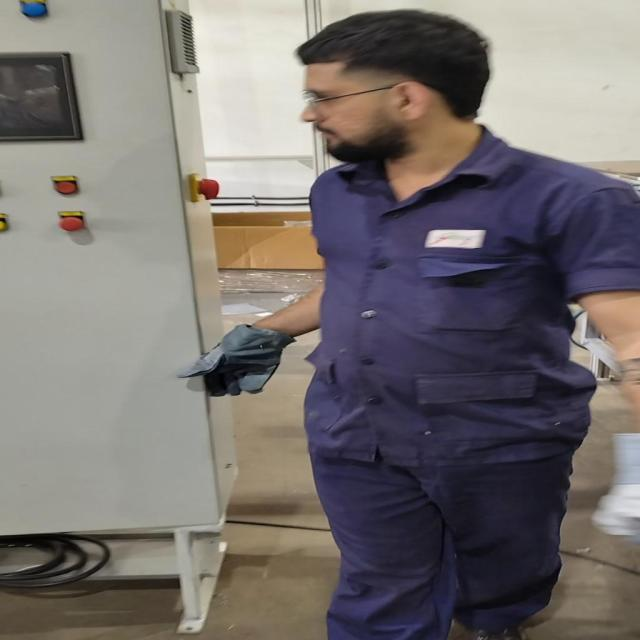Gloves-Detection: (177, 321, 292, 413)
